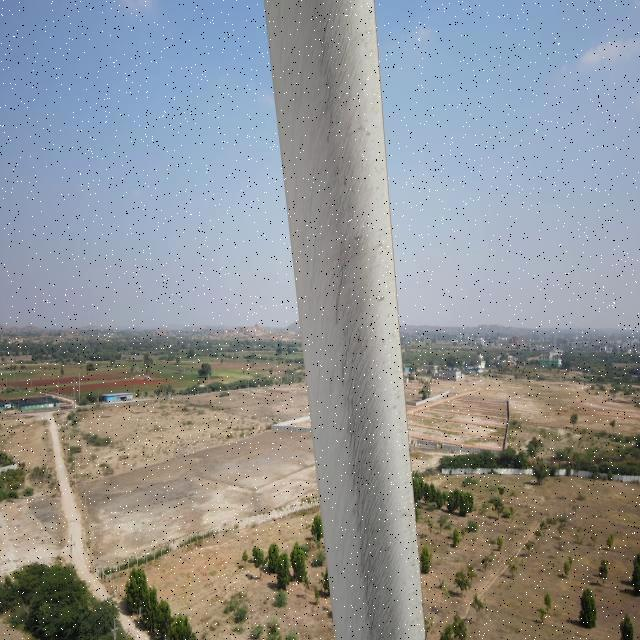Dirt: (317, 2, 427, 640)
